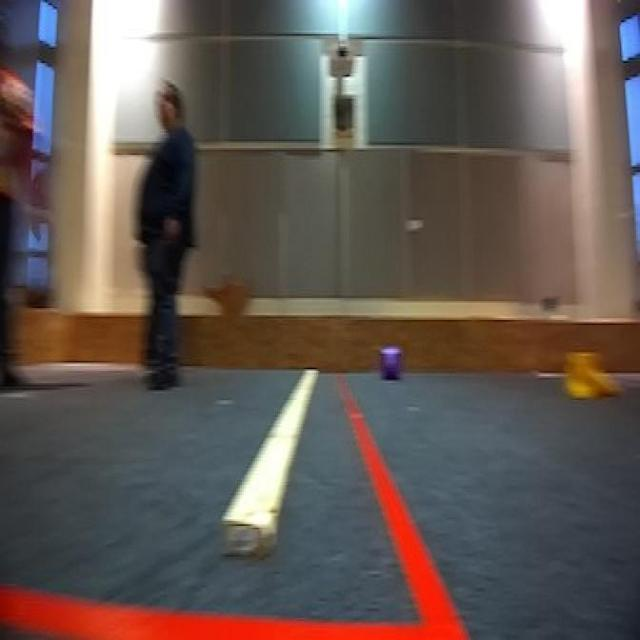frc_cone: (567, 349, 612, 400)
frc_cube: (381, 346, 400, 381)
